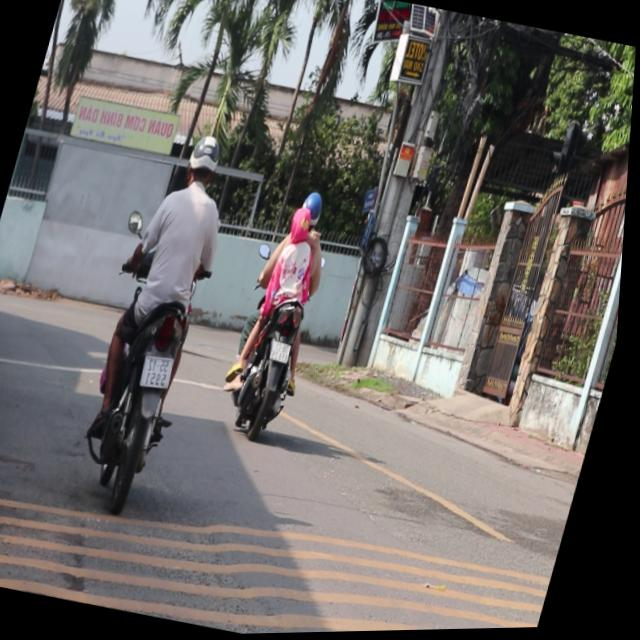helmet: (185, 132, 230, 193), (290, 206, 318, 247), (303, 190, 331, 224)
licenseplate: (71, 124, 257, 503), (216, 181, 355, 446)
nohelmet: (144, 355, 180, 390), (274, 341, 297, 364)
